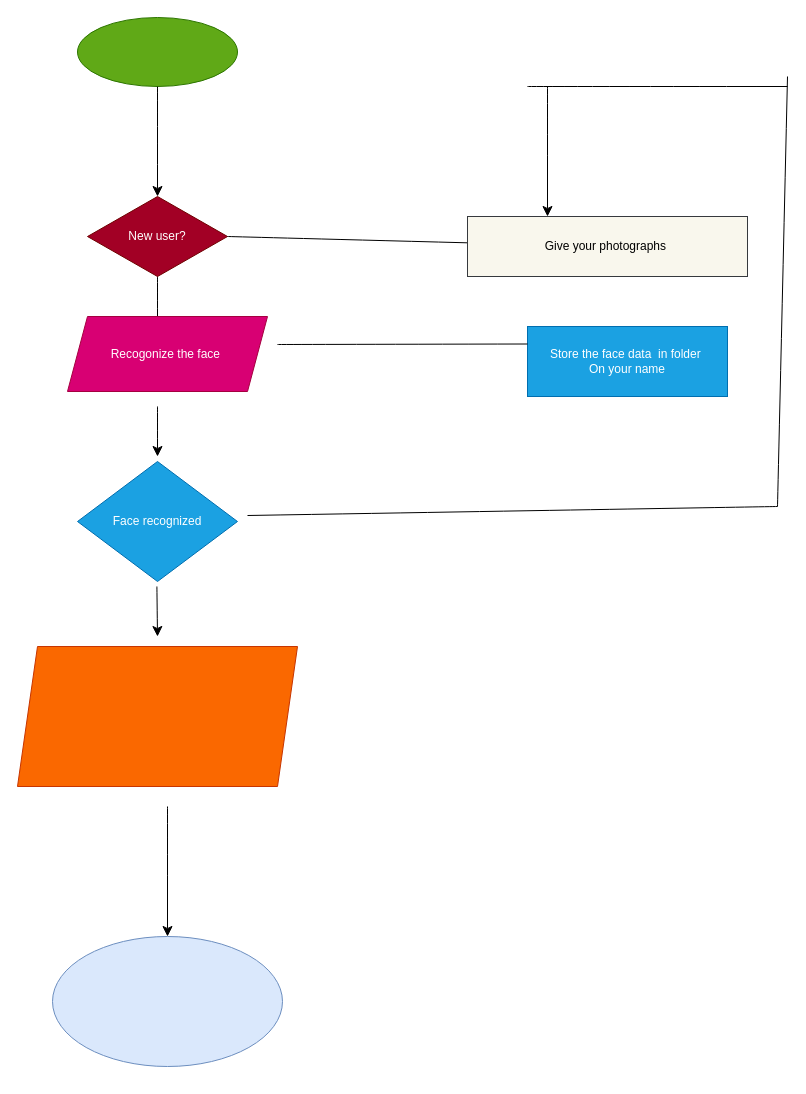
The diagram is 806 pixels wide and 1094 high, and some of its shapes have lost their labels. Each missing label, with the centre of its shape:
"End" goes at (167,1001).
"Start" goes at (157,51).
"Stored in CSV file with registration number and data time or entriy" goes at (157,716).
